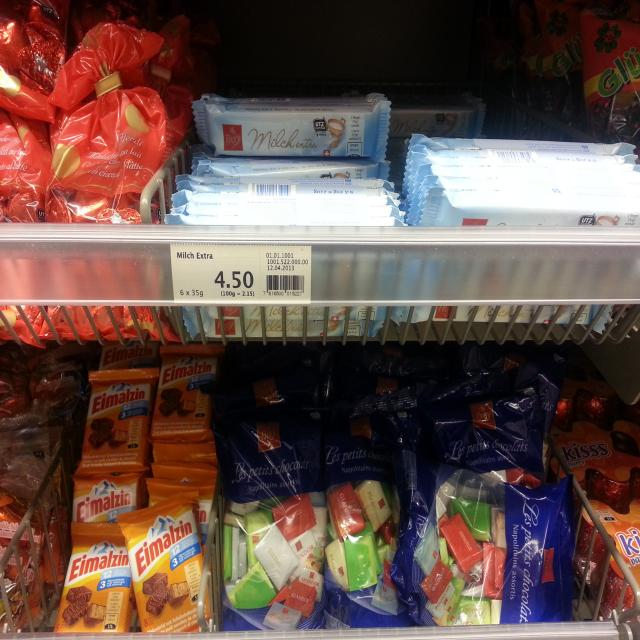chocolate: (411, 455, 566, 640), (329, 386, 426, 635), (229, 388, 326, 632), (49, 58, 170, 234), (124, 507, 215, 640), (192, 101, 390, 162), (55, 528, 138, 637), (76, 377, 153, 472), (158, 347, 221, 439), (74, 463, 140, 547)
